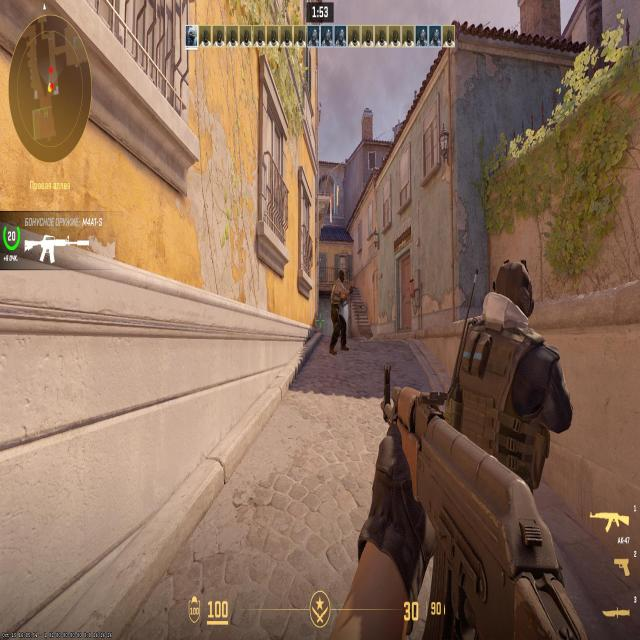CT: (464, 267, 544, 430)
CT_heat: (505, 266, 528, 307)
T: (334, 271, 348, 351)
T_heat: (341, 268, 345, 286)
